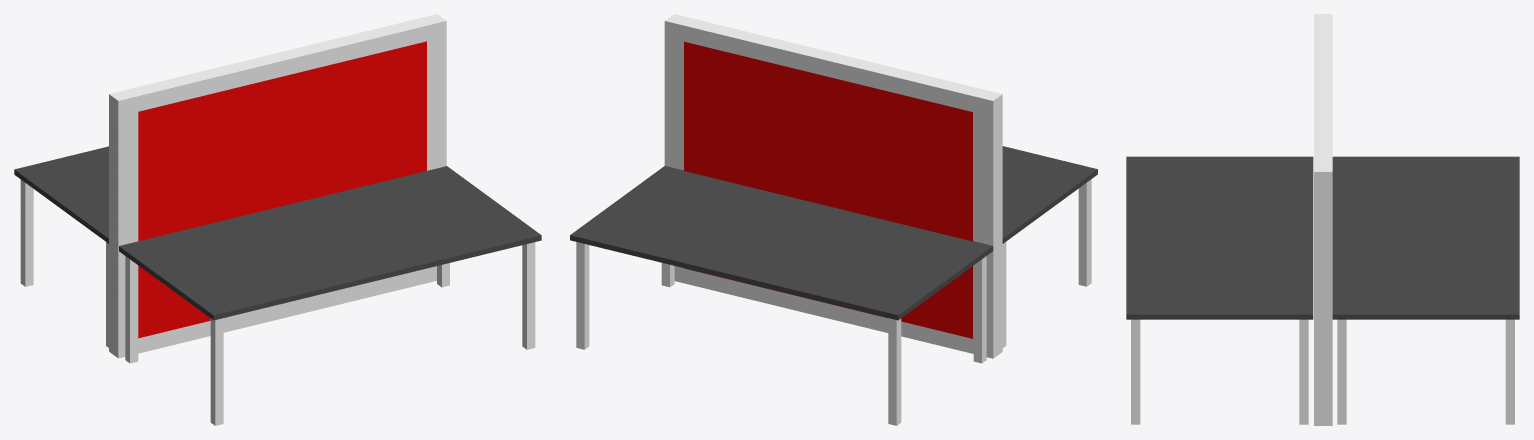
Rendered from Workplace_2x2.fbx.
The picture shows the model from 3 angles, left to right: view 1: azimuth 30°, elevation 25°; view 2: azimuth 150°, elevation 25°; view 3: azimuth 270°, elevation 25°; orthographic projection.
Visible parts, largest first — view 1: Plane, OfficeWall_2x1_5, Table_Top_1x1, Table_Top_1x1__1_, Table_Top_1x1_1, Table_Leg_3, Table_Leg_2, Table_Leg_4, Table_Leg; view 2: Plane__1_, OfficeWall_2x1_5, Table_Top_1x1_1, Table_Top_1x1__1__1, Table_Top_1x1, Table_Leg_4, Table_Leg_5, Table_Leg_3, Table_Leg_7, Table_Leg; view 3: Table_Top_1x1__1_, Table_Top_1x1__1__1, Table_Top_1x1, Table_Top_1x1_1, OfficeWall_2x1_5, Table_Leg_1, Table_Leg_6, Table_Leg_2, Table_Leg_5.
Boxes of the visible parts, x1,y1,x2,y2 form: Plane: (138, 41, 426, 338); OfficeWall_2x1_5: (109, 14, 446, 358); Table_Top_1x1: (119, 206, 377, 320); Table_Top_1x1__1_: (283, 166, 541, 280); Table_Top_1x1_1: (14, 146, 108, 243); Table_Leg_3: (210, 318, 223, 425); Table_Leg_2: (522, 242, 535, 349); Table_Leg_4: (20, 179, 33, 286); Table_Leg: (125, 256, 138, 363); Plane__1_: (684, 41, 972, 338); OfficeWall_2x1_5: (664, 14, 1002, 358); Table_Top_1x1_1: (734, 206, 993, 320); Table_Top_1x1__1__1: (570, 166, 827, 280); Table_Top_1x1: (1002, 146, 1097, 243); Table_Leg_4: (888, 318, 901, 425); Table_Leg_5: (576, 242, 589, 349); Table_Leg_3: (1078, 179, 1091, 286); Table_Leg_7: (973, 256, 986, 363); Table_Leg: (1002, 242, 1006, 347); Table_Top_1x1__1_: (1126, 235, 1313, 319); Table_Top_1x1__1__1: (1332, 235, 1519, 319); Table_Top_1x1: (1126, 156, 1313, 235); Table_Top_1x1_1: (1332, 156, 1519, 235); OfficeWall_2x1_5: (1314, 14, 1332, 425); Table_Leg_1: (1299, 319, 1308, 424); Table_Leg_6: (1337, 319, 1346, 424); Table_Leg_2: (1131, 319, 1140, 424); Table_Leg_5: (1505, 319, 1514, 424).
Size of the model in its own units: 200 by 150 by 211.
